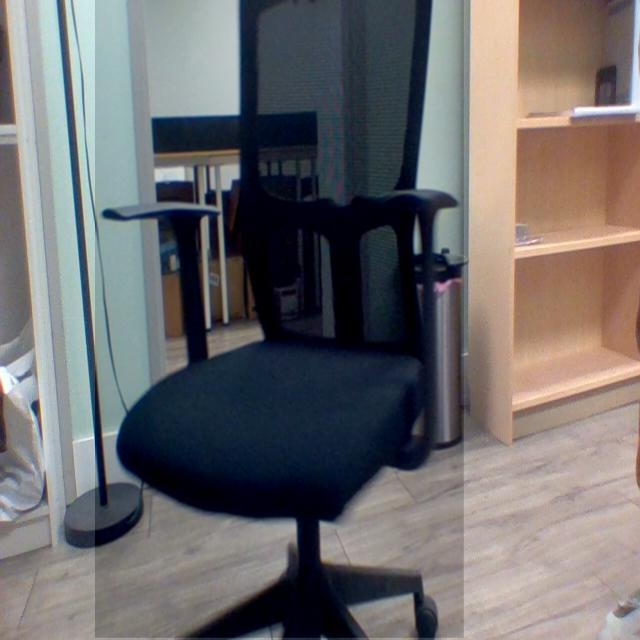black-chair: (95, 0, 465, 639)
